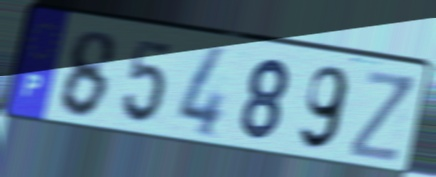4: (175, 42, 227, 142)
5: (117, 38, 178, 126)
8: (60, 28, 119, 121), (237, 55, 293, 145)
9: (297, 63, 351, 154)
Z: (347, 67, 418, 166)
